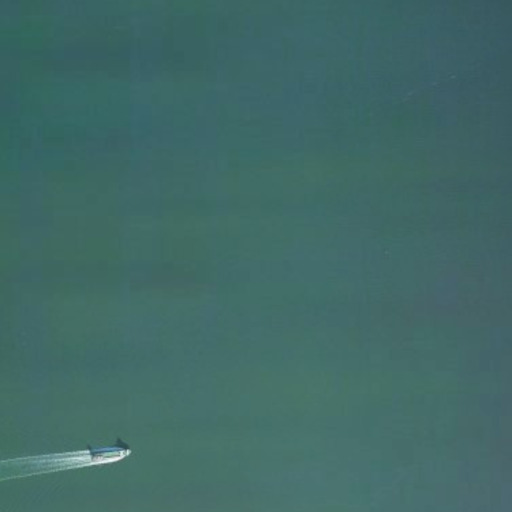ship: (79, 438, 134, 469)
